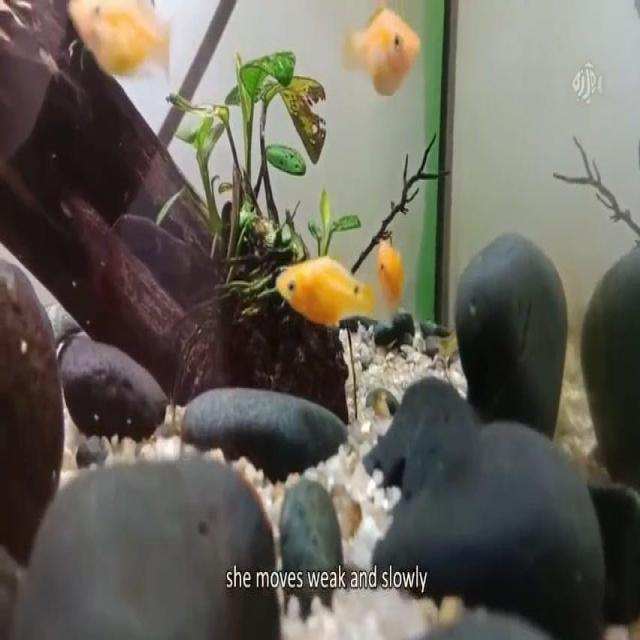PlatyFish: (269, 243, 398, 339), (334, 0, 431, 104)
